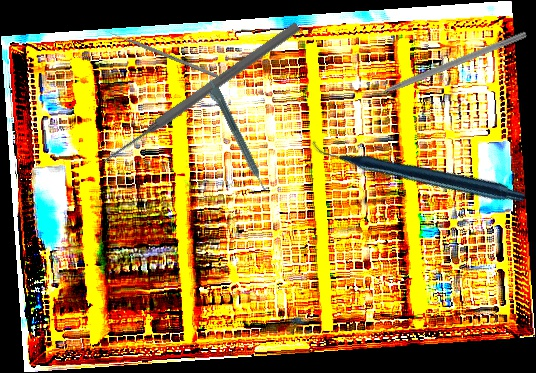Chopper: (355, 21, 529, 105)
Handpiece: (308, 57, 530, 283), (202, 78, 269, 195)
Pusher: (100, 19, 302, 168), (102, 28, 219, 78)
